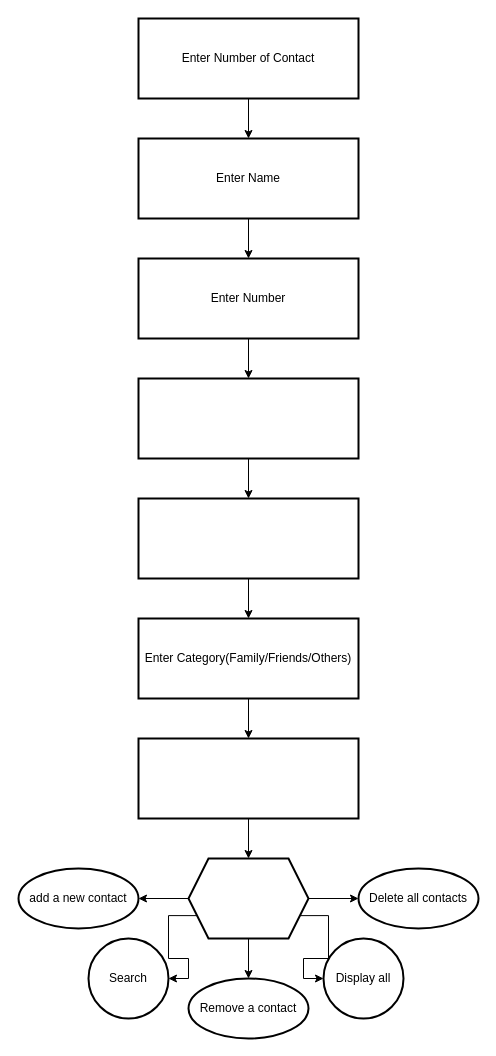
Some shapes in this 496 by 1056 pixel diagram are drawn without their labels. Each missing label, with the centre of its shape:
"Directory" goes at pixel 248 778.
"Enter date of birth(dd/mm/yy)" goes at pixel 248 538.
"Enter e-mail address" goes at pixel 248 418.
"Enter Your Choice" goes at pixel 248 898.
